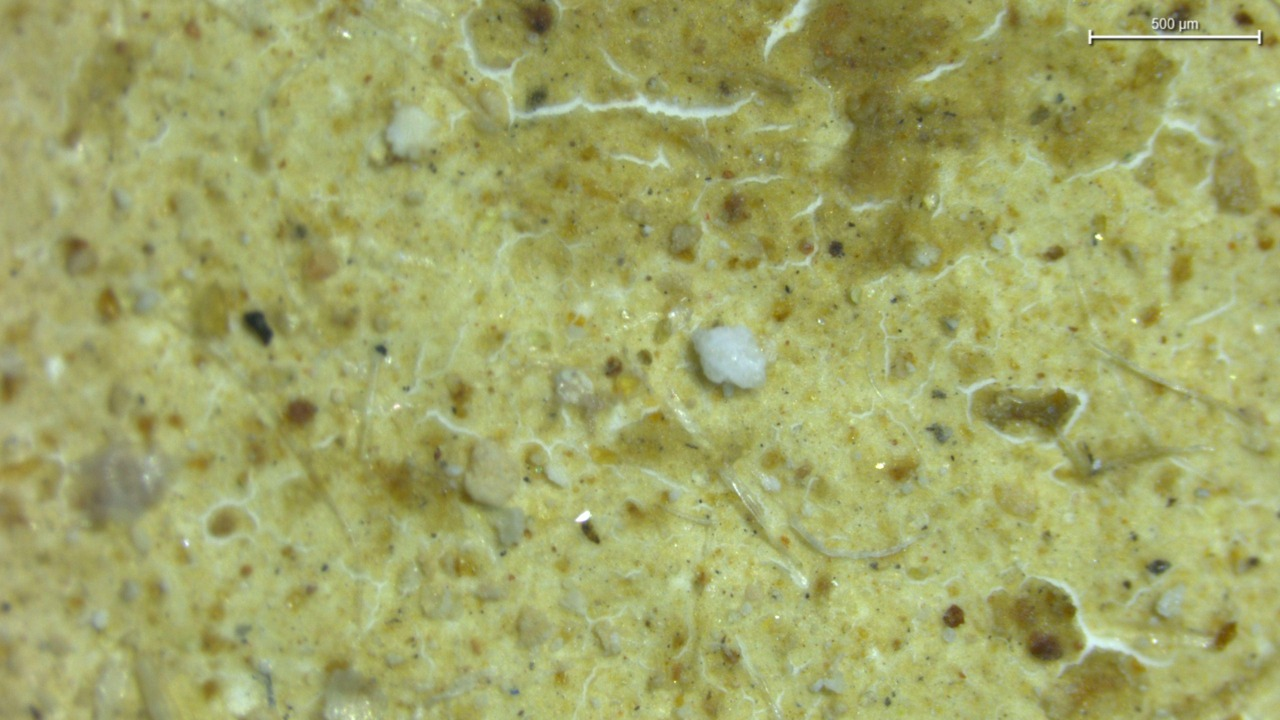microplastic_fragment: (692, 325, 765, 395), (464, 440, 521, 507), (386, 105, 438, 159)
